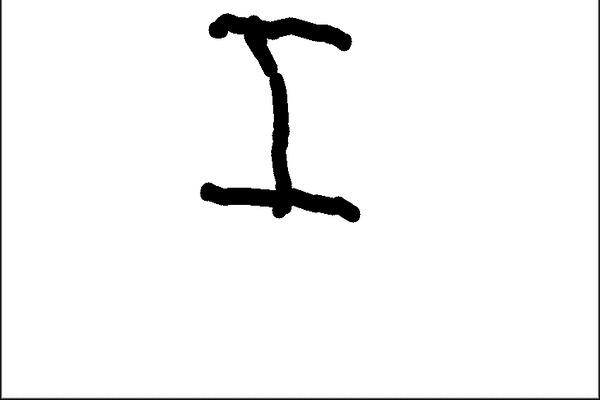i: (195, 5, 364, 234)
